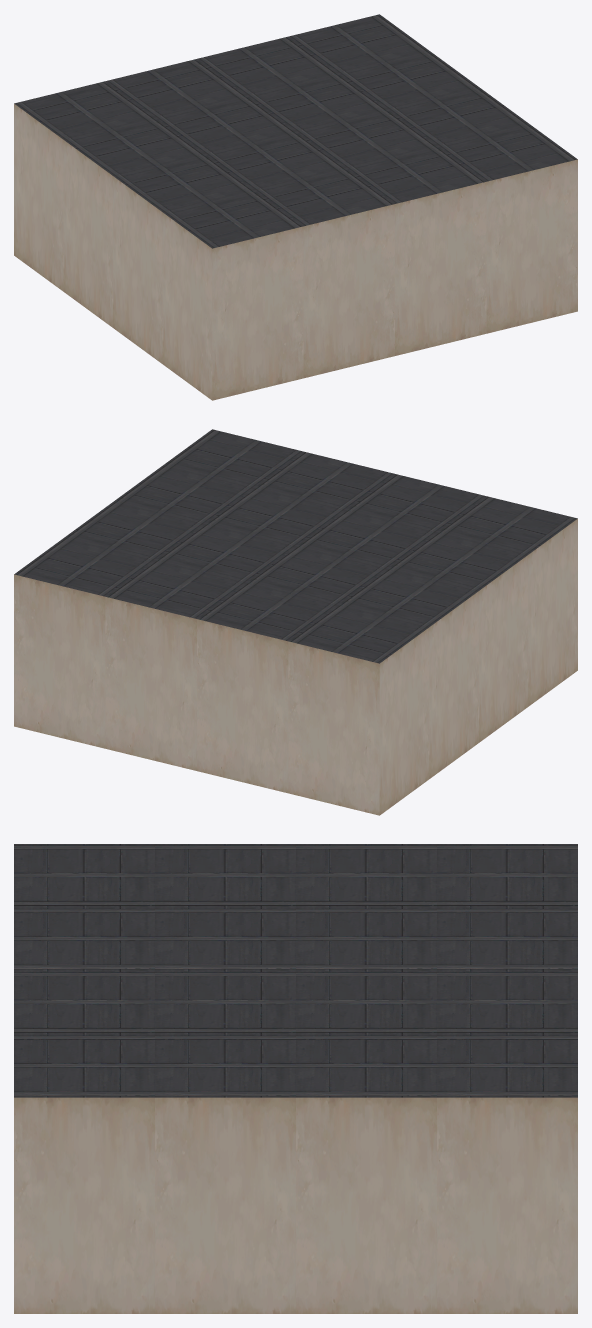
File: IndoorScene_Dq_Uyutei.fbx
3 views of the same model, one above another, from view 1: azimuth 30°, elevation 25°; view 2: azimuth 150°, elevation 25°; view 3: azimuth 270°, elevation 25° (orthographic). The views are drawn at different scales.
Parts seen in each view (by area): view 1: Indoor_Dq_Build_Uyutei_Filling_Vo; view 2: Indoor_Dq_Build_Uyutei_Filling_Vo; view 3: Indoor_Dq_Build_Uyutei_Filling_Vo.
Boxes of the visible parts, x1,y1,x2,y2 form: Indoor_Dq_Build_Uyutei_Filling_Vo: (14, 14, 577, 400); Indoor_Dq_Build_Uyutei_Filling_Vo: (14, 429, 577, 815); Indoor_Dq_Build_Uyutei_Filling_Vo: (14, 844, 577, 1313).
Size of what is drawn, in the model's own units: 27.86 by 11.07 by 26.17.
Materials: 19 (19 with a texture image).
